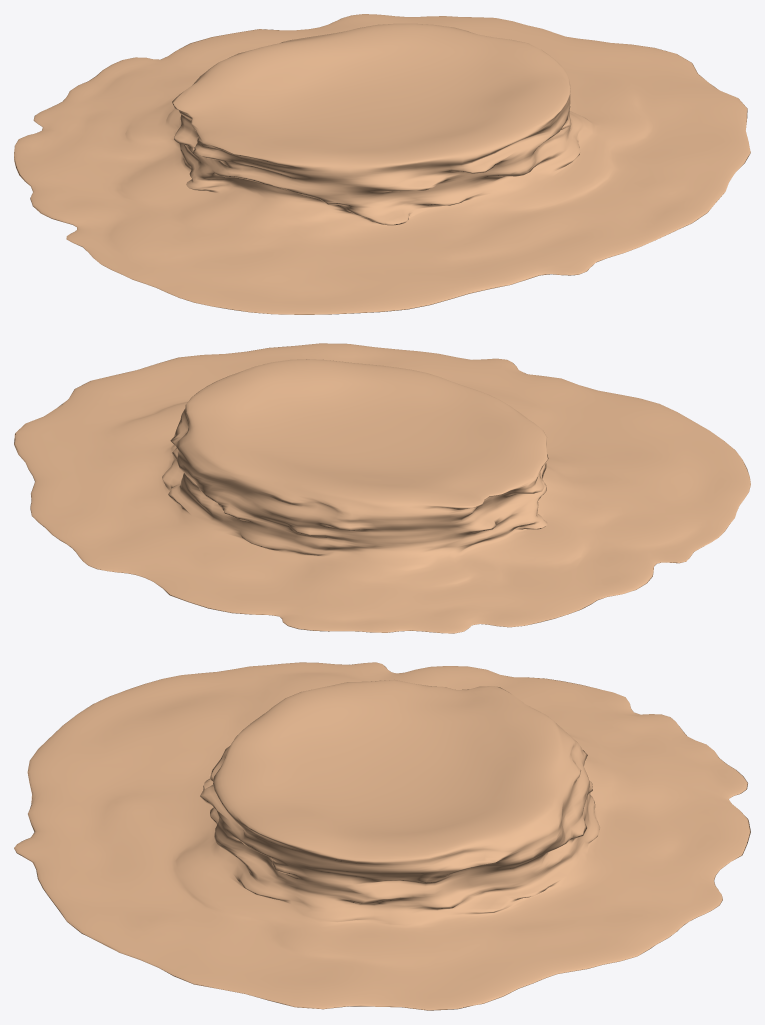
File: buttom.fbx
3 renders of one model, top to bottom at view 1: azimuth 30°, elevation 25°; view 2: azimuth 150°, elevation 25°; view 3: azimuth 270°, elevation 25°, orthographic. The views are drawn at different scales.
Parts seen in each view (by area): view 1: candle_3; view 2: candle_3; view 3: candle_3.
Boxes of the visible parts, <box> form: candle_3: <box>14,14,750,314</box>; candle_3: <box>14,343,750,633</box>; candle_3: <box>14,662,750,1010</box>.
Bounding box in the file's own units: 17.73 × 1.67 × 15.85.
